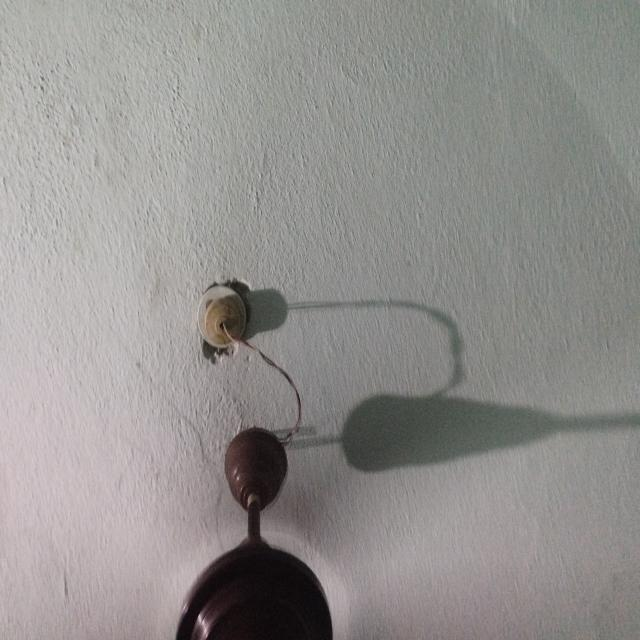fan_on: (0, 358, 640, 640)
